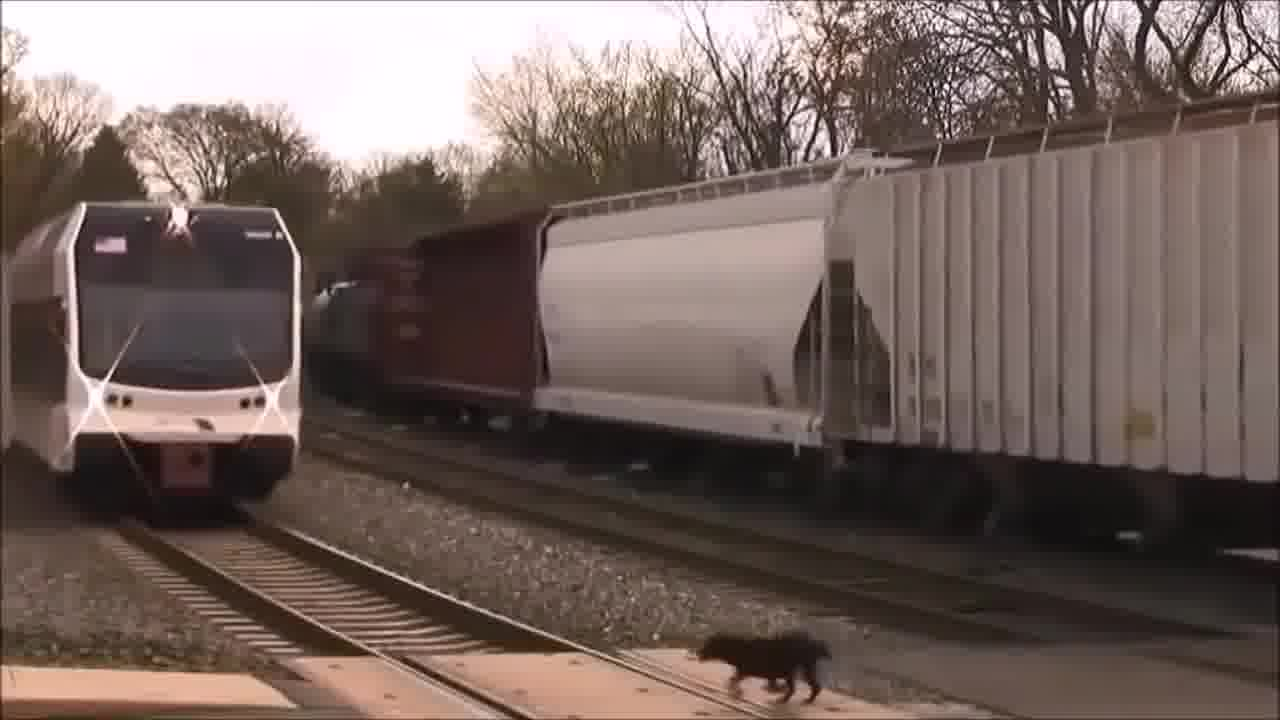crossing railway track: (663, 610, 849, 720)
